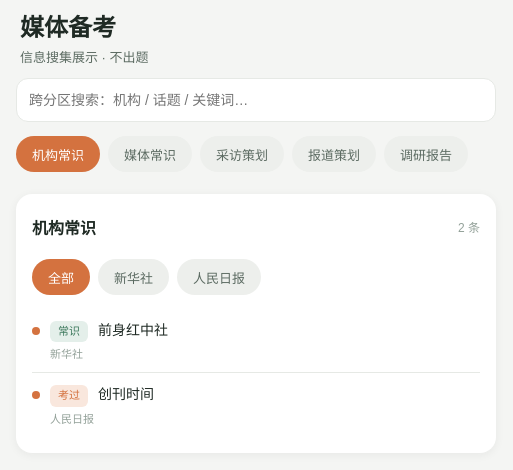
Scenario: MediaView 媒体备考 › 机构常识分区内按机构 chip 筛选
The image size is (513, 470).
Step 1. Click the button with class "chip" showing "人民日报" → {"x": 219, "y": 277}, box 177,259 -> 261,295
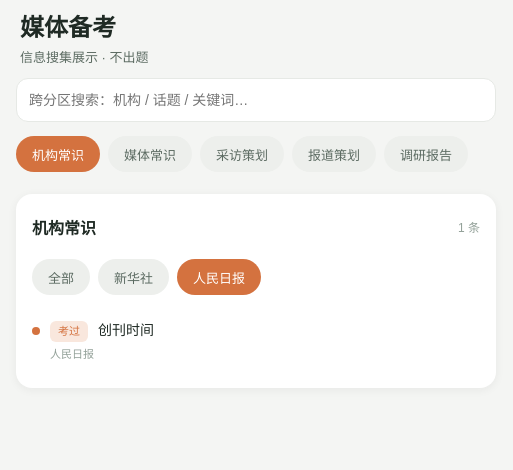
Expected: the text "创刊时间" is shown, 94,322 -> 154,338
Now the text "前身红中社" is gone
